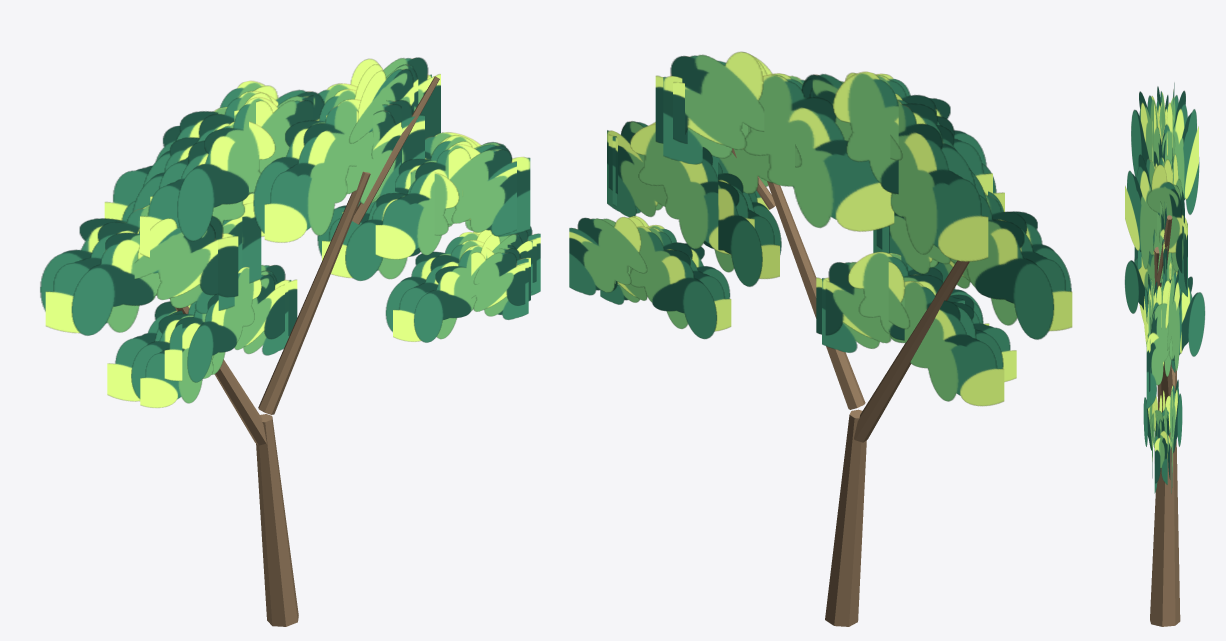
Rendered from TREE_EUCALYPTUS_COASTAL_002_LOD_CLOSE.glb.
3 views of the same model, side by side, from view 1: azimuth 30°, elevation 25°; view 2: azimuth 150°, elevation 25°; view 3: azimuth 270°, elevation 25° (orthographic). The views are drawn at different scales.
Parts seen in each view (by area): view 1: GG_TREE_EUCALYPTUS_COASTAL_002_FRONT_02_01, GG_TREE_EUCALYPTUS_COASTAL_002_FRONT_01_02, GG_TREE_EUCALYPTUS_COASTAL_002_BRANCH_00, GG_TREE_EUCALYPTUS_COASTAL_002_FRONT_03_01, GG_TREE_EUCALYPTUS_COASTAL_002_FRONT_00_01, GG_TREE_EUCALYPTUS_COASTAL_002_FRONT_03_02, GG_TREE_EUCALYPTUS_COASTAL_002_FRONT_00_00, GG_TREE_EUCALYPTUS_COASTAL_002_MID_00_01, GG_TREE_EUCALYPTUS_COASTAL_002_BRANCH_02, GG_TREE_EUCALYPTUS_COASTAL_002_FRONT_01_00, GG_TREE_EUCALYPTUS_COASTAL_002_FRONT_05_02, GG_TREE_EUCALYPTUS_COASTAL_002_FRONT_03_00 (+34 smaller); view 2: GG_TREE_EUCALYPTUS_COASTAL_002_REAR_02_01, GG_TREE_EUCALYPTUS_COASTAL_002_REAR_01_00, GG_TREE_EUCALYPTUS_COASTAL_002_REAR_02_02, GG_TREE_EUCALYPTUS_COASTAL_002_REAR_05_00, GG_TREE_EUCALYPTUS_COASTAL_002_REAR_01_02, GG_TREE_EUCALYPTUS_COASTAL_002_REAR_03_02, GG_TREE_EUCALYPTUS_COASTAL_002_REAR_00_01, GG_TREE_EUCALYPTUS_COASTAL_002_BRANCH_00, GG_TREE_EUCALYPTUS_COASTAL_002_REAR_04_02, GG_TREE_EUCALYPTUS_COASTAL_002_REAR_04_01, GG_TREE_EUCALYPTUS_COASTAL_002_REAR_05_01, GG_TREE_EUCALYPTUS_COASTAL_002_REAR_05_02 (+18 smaller); view 3: GG_TREE_EUCALYPTUS_COASTAL_002_BRANCH_00, GG_TREE_EUCALYPTUS_COASTAL_002_FRONT_02_01, GG_TREE_EUCALYPTUS_COASTAL_002_REAR_01_00, GG_TREE_EUCALYPTUS_COASTAL_002_FRONT_02_02, GG_TREE_EUCALYPTUS_COASTAL_002_REAR_03_01, GG_TREE_EUCALYPTUS_COASTAL_002_FRONT_01_02, GG_TREE_EUCALYPTUS_COASTAL_002_REAR_03_00, GG_TREE_EUCALYPTUS_COASTAL_002_FRONT_05_02, GG_TREE_EUCALYPTUS_COASTAL_002_REAR_03_02, GG_TREE_EUCALYPTUS_COASTAL_002_REAR_04_01, GG_TREE_EUCALYPTUS_COASTAL_002_FRONT_04_02, GG_TREE_EUCALYPTUS_COASTAL_002_MID_02_02 (+17 smaller).
Part boxes in pixels (box(x1,y1,x2,y2)): GG_TREE_EUCALYPTUS_COASTAL_002_FRONT_02_01: box(264, 99, 360, 242); GG_TREE_EUCALYPTUS_COASTAL_002_FRONT_01_02: box(177, 97, 277, 241); GG_TREE_EUCALYPTUS_COASTAL_002_BRANCH_00: box(256, 414, 298, 626); GG_TREE_EUCALYPTUS_COASTAL_002_FRONT_03_01: box(448, 147, 516, 236); GG_TREE_EUCALYPTUS_COASTAL_002_FRONT_00_01: box(71, 229, 161, 335); GG_TREE_EUCALYPTUS_COASTAL_002_FRONT_03_02: box(375, 144, 480, 259); GG_TREE_EUCALYPTUS_COASTAL_002_FRONT_00_00: box(134, 218, 217, 299); GG_TREE_EUCALYPTUS_COASTAL_002_MID_00_01: box(45, 205, 155, 333); GG_TREE_EUCALYPTUS_COASTAL_002_BRANCH_02: box(258, 171, 370, 414); GG_TREE_EUCALYPTUS_COASTAL_002_FRONT_01_00: box(140, 121, 275, 257); GG_TREE_EUCALYPTUS_COASTAL_002_FRONT_05_02: box(187, 267, 261, 382); GG_TREE_EUCALYPTUS_COASTAL_002_FRONT_03_00: box(345, 172, 459, 280); GG_TREE_EUCALYPTUS_COASTAL_002_REAR_02_01: box(743, 74, 894, 231); GG_TREE_EUCALYPTUS_COASTAL_002_REAR_01_00: box(890, 99, 988, 261); GG_TREE_EUCALYPTUS_COASTAL_002_REAR_02_02: box(655, 51, 764, 149); GG_TREE_EUCALYPTUS_COASTAL_002_REAR_05_00: box(890, 281, 1004, 406); GG_TREE_EUCALYPTUS_COASTAL_002_REAR_01_02: box(833, 71, 975, 194); GG_TREE_EUCALYPTUS_COASTAL_002_REAR_03_02: box(630, 124, 754, 254); GG_TREE_EUCALYPTUS_COASTAL_002_REAR_00_01: box(950, 195, 1054, 339); GG_TREE_EUCALYPTUS_COASTAL_002_BRANCH_00: box(825, 409, 866, 626); GG_TREE_EUCALYPTUS_COASTAL_002_REAR_04_02: box(569, 217, 647, 295); GG_TREE_EUCALYPTUS_COASTAL_002_REAR_04_01: box(629, 226, 716, 339); GG_TREE_EUCALYPTUS_COASTAL_002_REAR_05_01: box(816, 261, 909, 343); GG_TREE_EUCALYPTUS_COASTAL_002_REAR_05_02: box(848, 251, 976, 340); GG_TREE_EUCALYPTUS_COASTAL_002_BRANCH_00: box(1150, 432, 1180, 626); GG_TREE_EUCALYPTUS_COASTAL_002_FRONT_02_01: box(1125, 154, 1156, 269); GG_TREE_EUCALYPTUS_COASTAL_002_REAR_01_00: box(1162, 90, 1198, 199); GG_TREE_EUCALYPTUS_COASTAL_002_FRONT_02_02: box(1147, 164, 1182, 273); GG_TREE_EUCALYPTUS_COASTAL_002_REAR_03_01: box(1146, 280, 1170, 408); GG_TREE_EUCALYPTUS_COASTAL_002_FRONT_01_02: box(1131, 91, 1161, 177); GG_TREE_EUCALYPTUS_COASTAL_002_REAR_03_00: box(1169, 276, 1204, 360); GG_TREE_EUCALYPTUS_COASTAL_002_FRONT_05_02: box(1124, 251, 1154, 313); GG_TREE_EUCALYPTUS_COASTAL_002_REAR_03_02: box(1165, 269, 1182, 371); GG_TREE_EUCALYPTUS_COASTAL_002_REAR_04_01: box(1168, 380, 1182, 452); GG_TREE_EUCALYPTUS_COASTAL_002_FRONT_04_02: box(1150, 396, 1167, 484); GG_TREE_EUCALYPTUS_COASTAL_002_MID_02_02: box(1164, 159, 1187, 296).
Size of the model in its own units: 7.74 by 8.34 by 1.34.
Materials: 2 (1 with a texture image).
